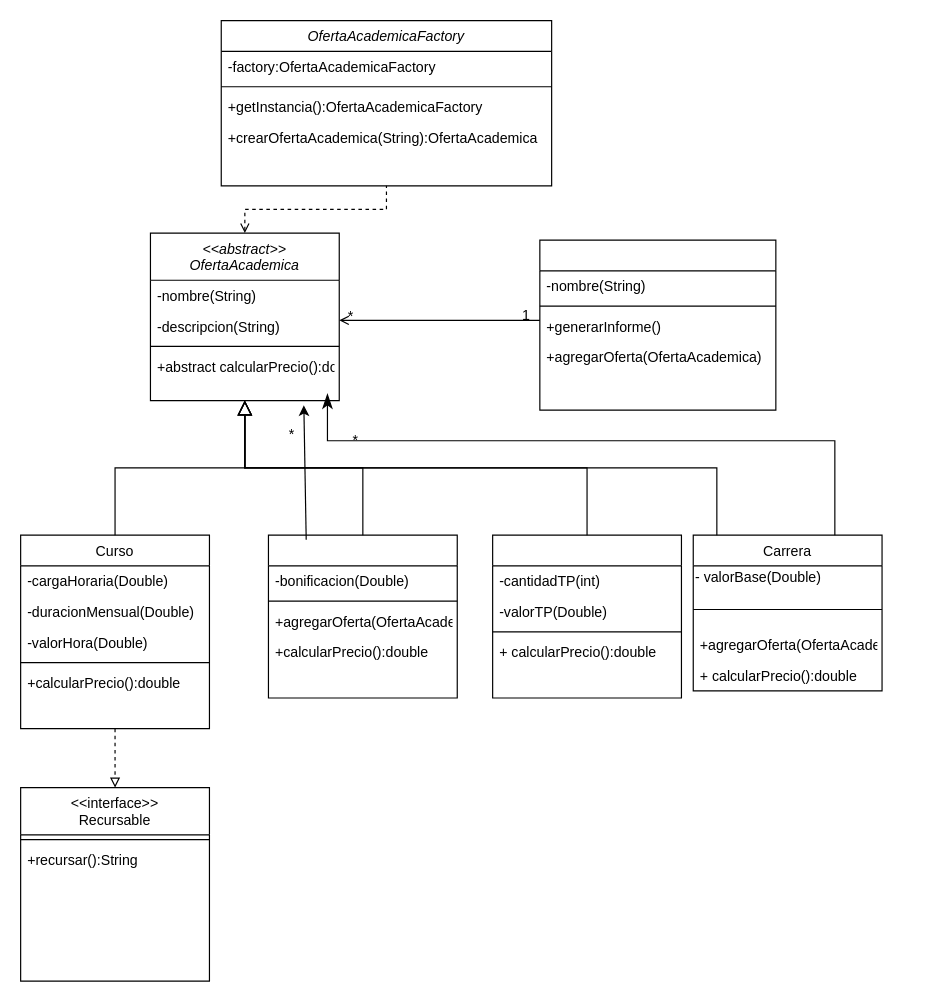
Image size: 935x1002. Some labels were removed from this diagram. Here are the shapes that lost their labels. From the top down, the box of each, then its label:
(539, 239, 776, 410): Instituto
(267, 534, 457, 698): Programa_Intensivo
(491, 534, 681, 698): Taller
